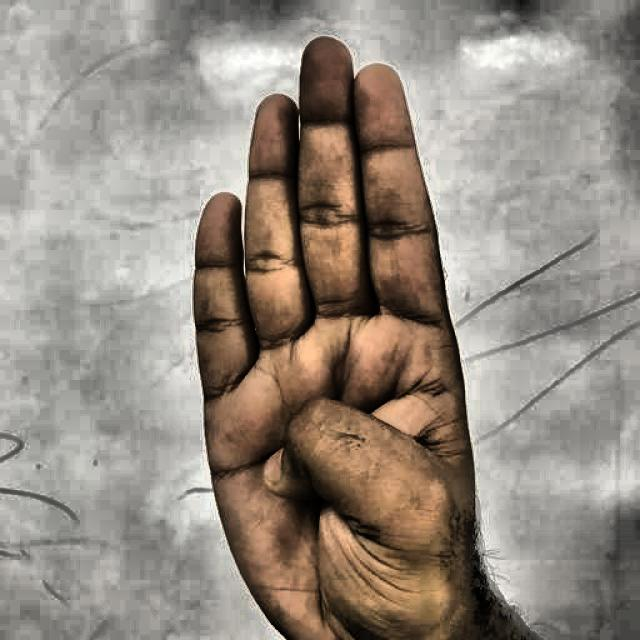Ba: (167, 18, 535, 637)
